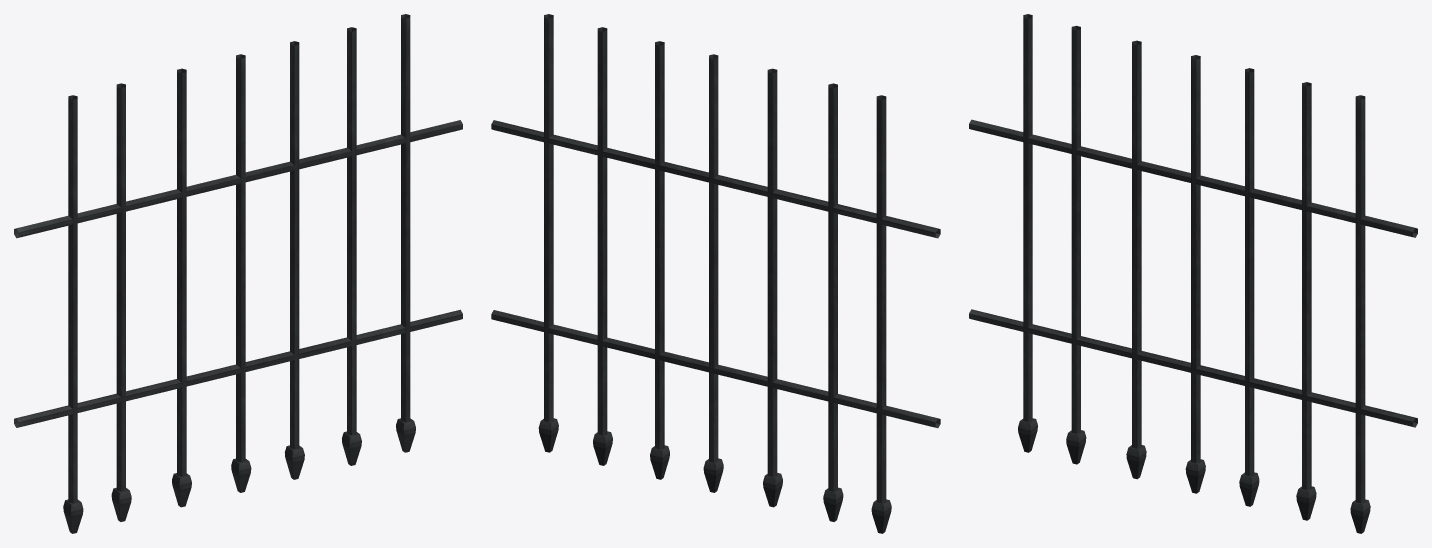
Rendered from cp_gate.FBX.
3 renders of one model, left to right at view 1: azimuth 30°, elevation 25°; view 2: azimuth 150°, elevation 25°; view 3: azimuth 330°, elevation 25°, orthographic.
Visible parts, largest first — view 1: gate; view 2: gate; view 3: gate.
Boxes of the visible parts, x1,y1,x2,y2 form: gate: (14,14,462,533); gate: (491,14,940,533); gate: (969,14,1417,533).
Size of the model in its own units: 25.21 by 23.58 by 0.7458.
